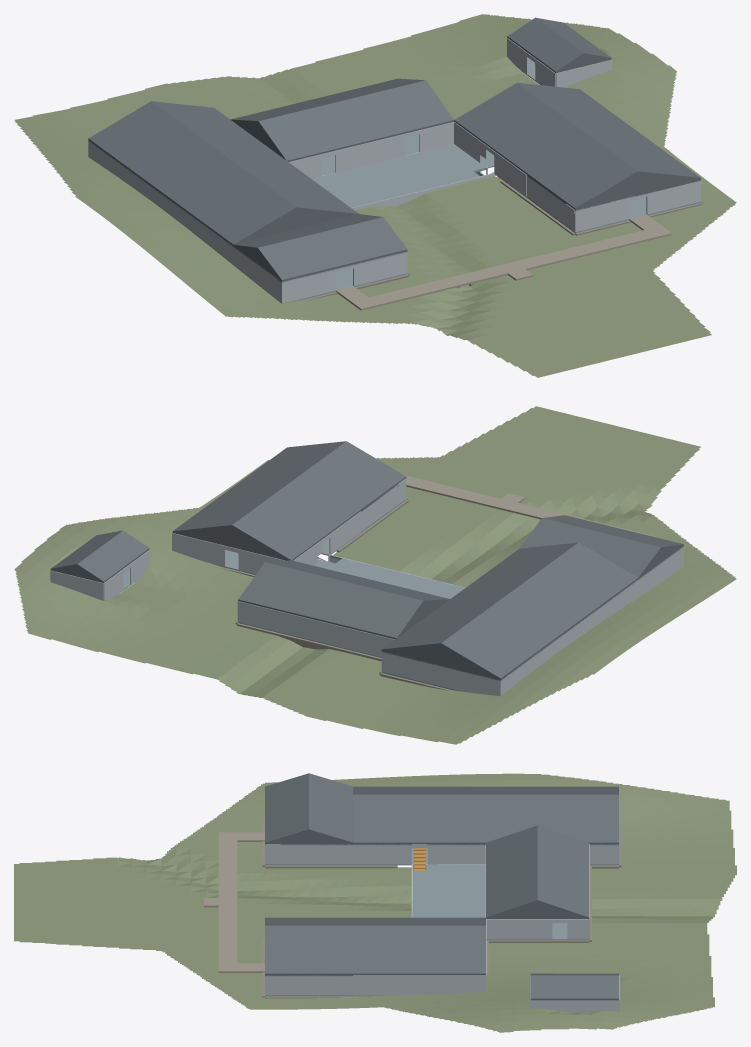
Rendered from architecture-without-guides.glb.
The picture shows the model from 3 angles, top to bottom: view 1: azimuth 30°, elevation 25°; view 2: azimuth 150°, elevation 25°; view 3: azimuth 270°, elevation 25°; orthographic projection. The views are drawn at different scales.
Visible parts, largest first — view 1: Saved editor circulation terrain WLD-08, dormitory-and-mess roof west, radio-records roof south, laboratory roof west, generator-building roof west, Entrance rebuild Research courtyard structural deck region0, stores roof south, dormitory-and-mess roof east, Entrance rebuild WLD-08 continuous approach pavement region0, laboratory roof east, generator-building roof east, remote-shelter roof west (+21 smaller); view 2: Saved editor circulation terrain WLD-08, dormitory-and-mess roof west, radio-records roof north, generator-building roof west, laboratory roof west, dormitory-and-mess roof east, stores roof north, generator-building roof east, laboratory roof east, Entrance rebuild Research aligned aisle generator Nend, Entrance rebuild Research courtyard structural deck region0, Entrance rebuild WLD-08 continuous approach pavement region0 (+16 smaller); view 3: Saved editor circulation terrain WLD-08, dormitory-and-mess roof east, laboratory roof east, generator-building roof east, radio-records roof north, radio-records roof south, Entrance rebuild Research courtyard structural deck region0, Entrance rebuild WLD-08 continuous approach pavement region0, Wall dorm E, stores roof north, stores roof south, remote-shelter roof east (+14 smaller).
Part boxes in pixels (x1,y1,x2,y2): Saved editor circulation terrain WLD-08: (14, 14, 736, 377); dormitory-and-mess roof west: (454, 83, 637, 209); radio-records roof south: (258, 80, 454, 161); laboratory roof west: (161, 154, 296, 245); generator-building roof west: (88, 101, 223, 192); Entrance rebuild Research courtyard structural deck region0: (311, 144, 493, 207); stores roof south: (257, 217, 407, 281); dormitory-and-mess roof east: (517, 82, 700, 178); Entrance rebuild WLD-08 continuous approach pavement region0: (335, 214, 671, 310); laboratory roof east: (224, 154, 358, 214); generator-building roof east: (152, 101, 286, 160); remote-shelter roof west: (507, 17, 583, 72); Saved editor circulation terrain WLD-08: (14, 406, 736, 744); dormitory-and-mess roof west: (232, 441, 406, 560); radio-records roof north: (238, 562, 423, 639); generator-building roof west: (441, 593, 569, 679); laboratory roof west: (510, 542, 638, 629); dormitory-and-mess roof east: (172, 441, 345, 532); stores roof north: (519, 518, 660, 578); generator-building roof east: (381, 593, 508, 650); laboratory roof east: (451, 542, 577, 598); Entrance rebuild Research aligned aisle generator Nend: (381, 652, 501, 696); Entrance rebuild Research courtyard structural deck region0: (315, 555, 464, 598); Entrance rebuild WLD-08 continuous approach pavement region0: (404, 475, 656, 537); Saved editor circulation terrain WLD-08: (14, 773, 736, 1032); dormitory-and-mess roof east: (265, 925, 485, 974); laboratory roof east: (353, 794, 485, 844); generator-building roof east: (486, 794, 618, 844); radio-records roof north: (537, 825, 589, 918); radio-records roof south: (486, 825, 537, 918); Entrance rebuild Research courtyard structural deck region0: (412, 864, 485, 917); Entrance rebuild WLD-08 continuous approach pavement region0: (204, 832, 264, 972); Wall dorm E: (353, 975, 485, 995); stores roof north: (309, 773, 353, 843); stores roof south: (265, 773, 308, 843); remote-shelter roof east: (530, 975, 618, 999).
Bounding box in the file's own units: 83 × 9.24 × 98.
Materials: 39 (19 with a texture image).
